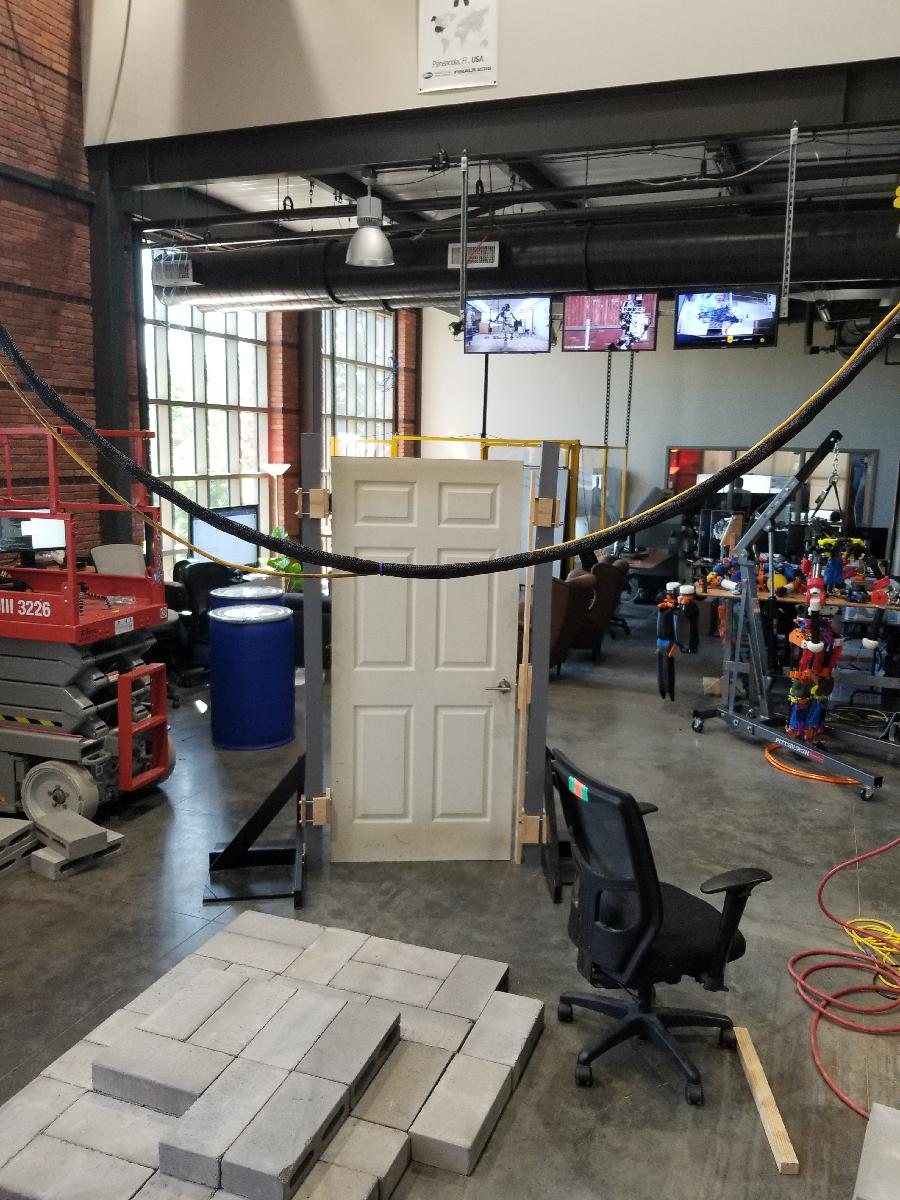door: (326, 450, 527, 870)
doorHandle: (482, 671, 516, 702)
